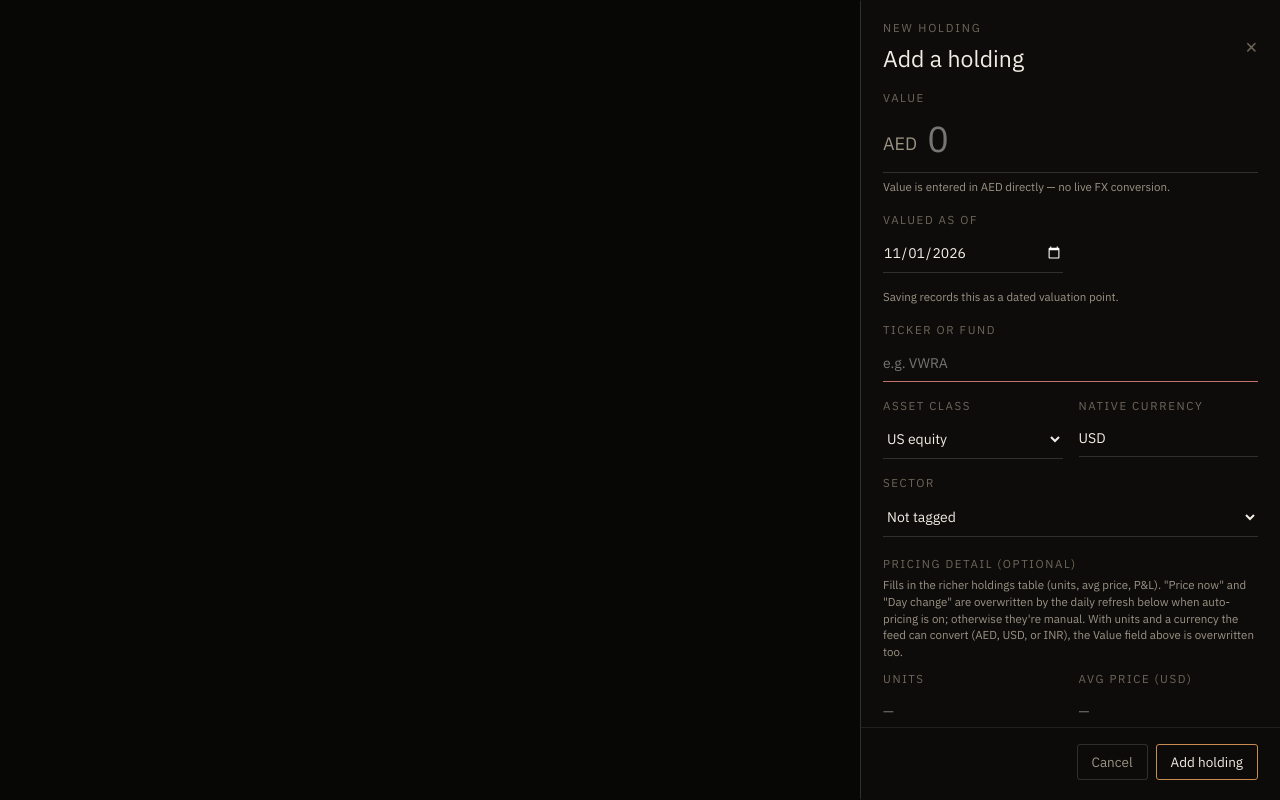
cost from units › replaces the cost box once units and an average price are entered
The width and height of the screenshot is (1280, 800).
Expected: the number field with class "te-fieldvalue" below "Invested (AED)" is shown, [1078,769,1258,799]
Step 1. Type "10" into the 1st number field with placeholder "—" → (973,712), box [883,693,1062,730]
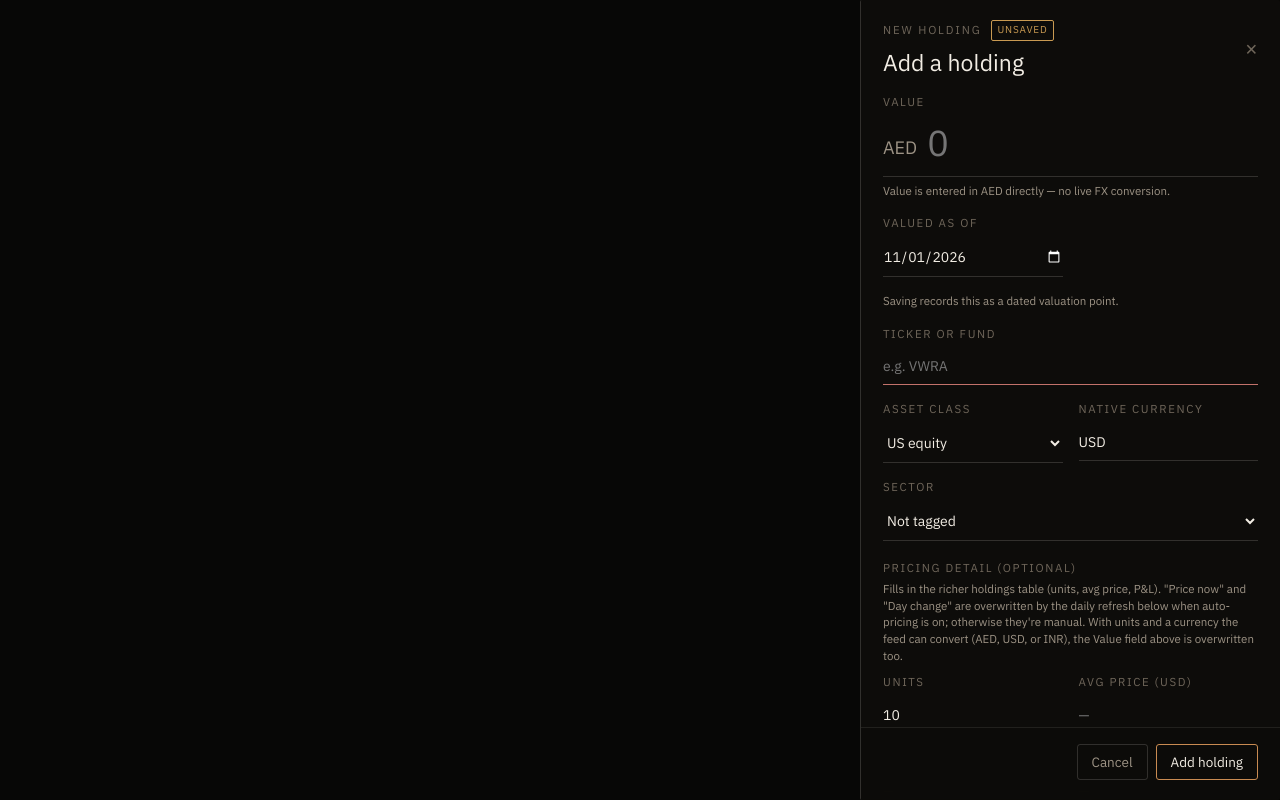
Step 2. Type "100" into the number field with placeholder "—" → (1168,716), box [1078,697,1258,734]
(page scrolled)
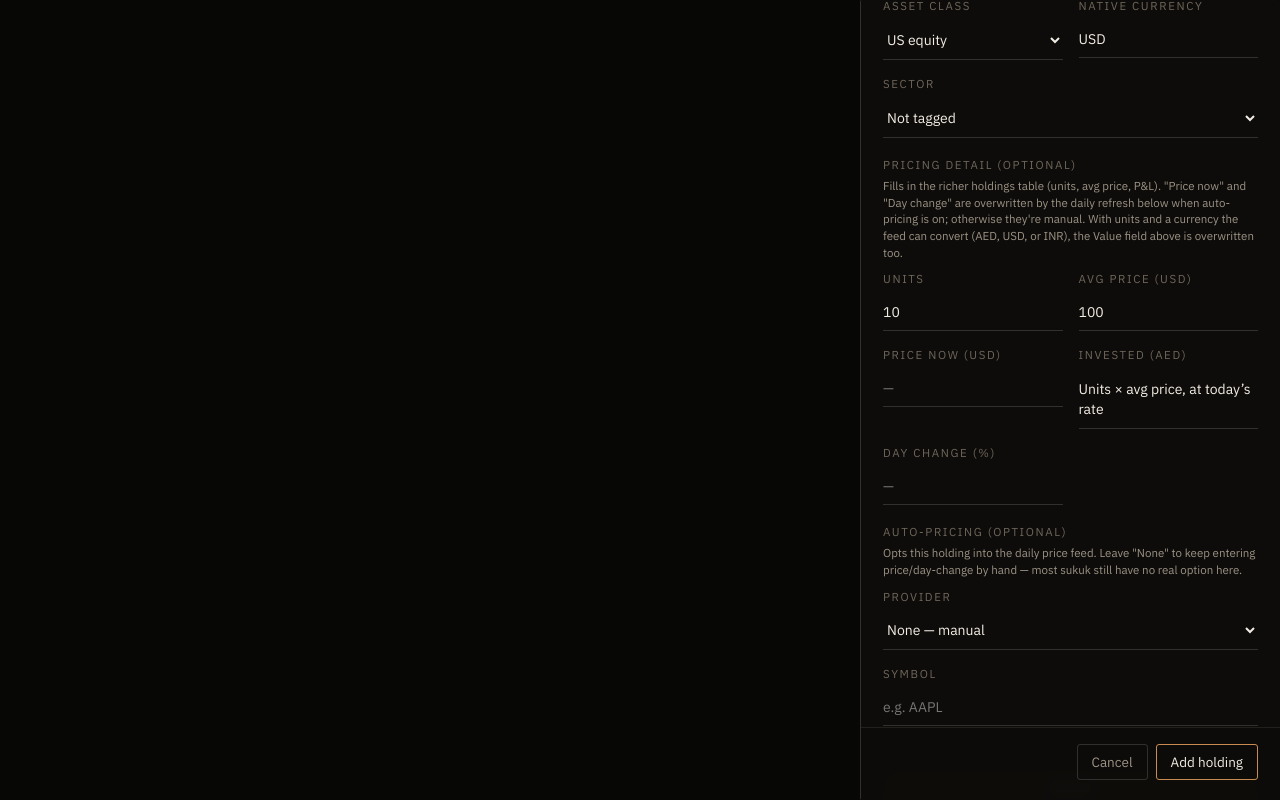
Now the text with test id "invested-from-units" shows "Units × avg price", box [1078,380,1251,418]
